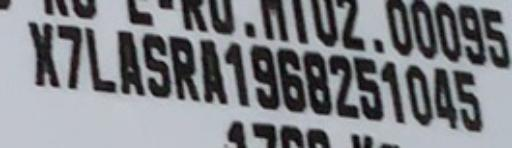letter: (137, 28, 175, 96), (245, 42, 281, 110), (326, 49, 360, 121), (197, 38, 231, 108), (83, 24, 117, 92), (168, 30, 200, 102), (274, 42, 306, 114), (27, 19, 61, 85), (402, 61, 436, 127), (454, 67, 488, 133), (54, 22, 86, 92), (301, 48, 333, 116), (352, 55, 386, 119), (114, 30, 146, 96), (220, 40, 250, 108), (431, 65, 461, 131), (379, 55, 407, 125)
